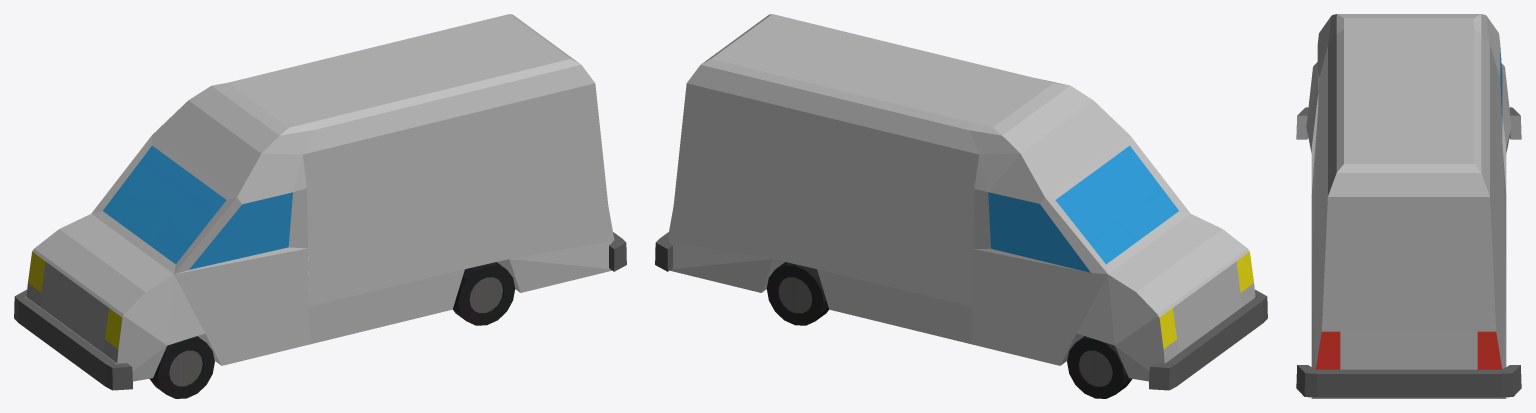
File: Van.fbx
3 renders of one model, left to right at view 1: azimuth 30°, elevation 25°; view 2: azimuth 150°, elevation 25°; view 3: azimuth 270°, elevation 25°, orthographic. The views are drawn at different scales.
Parts seen in each view (by area): view 1: VanBodyColor, VanBody, VanTires; view 2: VanBodyColor, VanBody, VanTires; view 3: VanBodyColor, VanBody.
Boxes of the visible parts, bbox=[...] form: VanBodyColor: bbox=[24, 14, 614, 381]; VanBody: bbox=[14, 145, 626, 390]; VanTires: bbox=[149, 262, 515, 398]; VanBodyColor: bbox=[667, 14, 1257, 381]; VanBody: bbox=[655, 145, 1267, 390]; VanTires: bbox=[766, 262, 1132, 398]; VanBodyColor: bbox=[1296, 14, 1521, 398]; VanBody: bbox=[1296, 47, 1521, 397].
Size of the model in its own units: 434 by 185 by 154.
